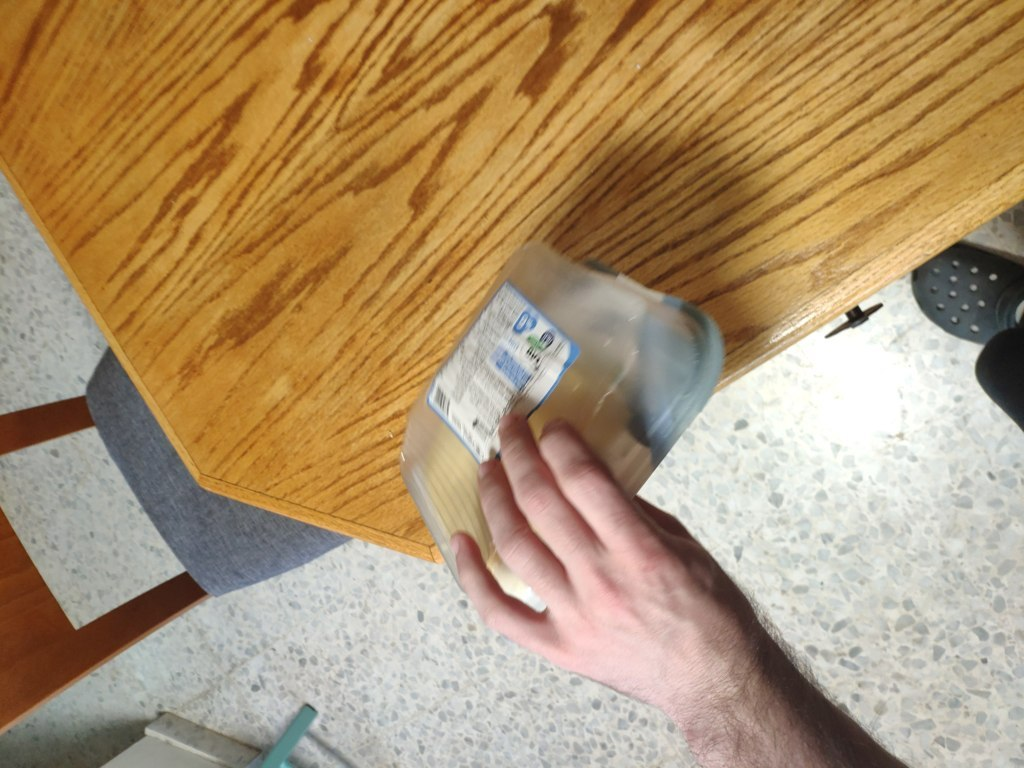Cheese: (388, 253, 700, 632)
